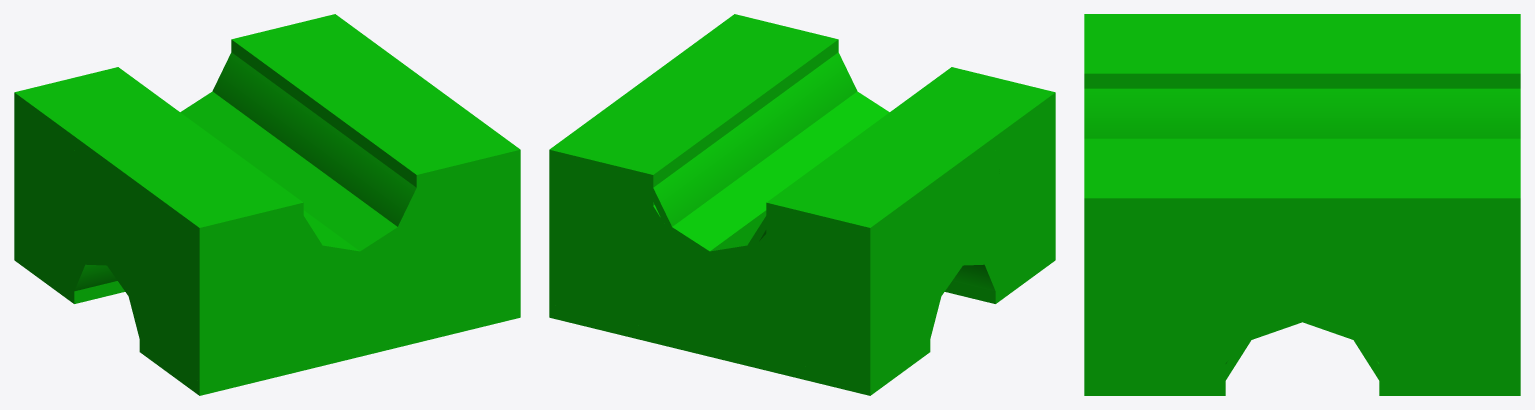
The model's file is UCXKugelbahn.34.fbx.
3 renders of one model, left to right at view 1: azimuth 30°, elevation 25°; view 2: azimuth 150°, elevation 25°; view 3: azimuth 270°, elevation 25°, orthographic. The views are drawn at different scales.
Visible parts, largest first — view 1: UCX_Kugelbahn.34_low; view 2: UCX_Kugelbahn.34_low; view 3: UCX_Kugelbahn.34_low.
Part boxes in pixels (x1,y1,x2,y2): UCX_Kugelbahn.34_low: [14, 14, 520, 395]; UCX_Kugelbahn.34_low: [549, 14, 1055, 395]; UCX_Kugelbahn.34_low: [1084, 14, 1520, 395].
Size of the model in its own units: 0.05 by 0.025 by 0.05.
